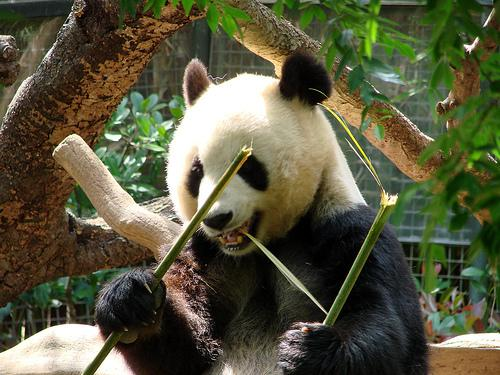panda: (95, 50, 427, 374)
